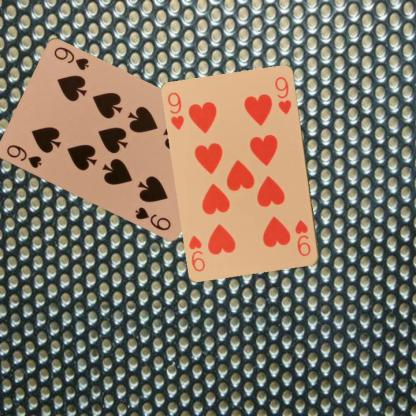9h: (165, 90, 186, 131), (292, 217, 312, 258)
9s: (3, 142, 43, 170)
